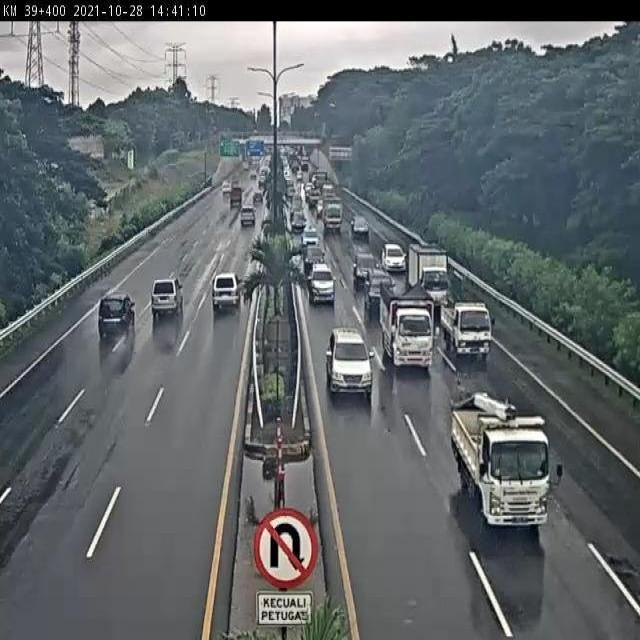car: (326, 327, 373, 399), (307, 260, 337, 309), (364, 267, 394, 309), (352, 251, 378, 287), (381, 241, 406, 272)
truck: (453, 393, 549, 532), (379, 280, 434, 372), (440, 298, 492, 362), (408, 244, 452, 303), (97, 292, 136, 336), (150, 278, 185, 318), (212, 271, 242, 312)
